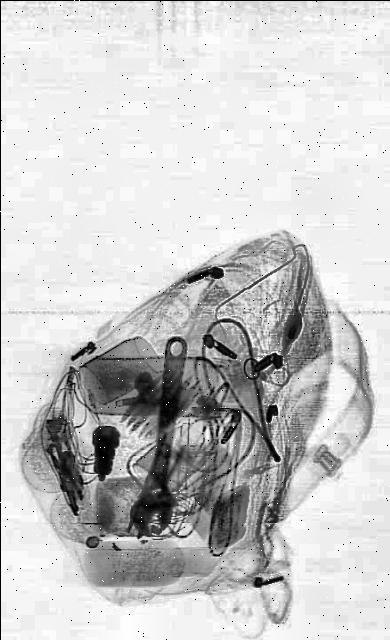Wrench: (128, 329, 198, 539)
